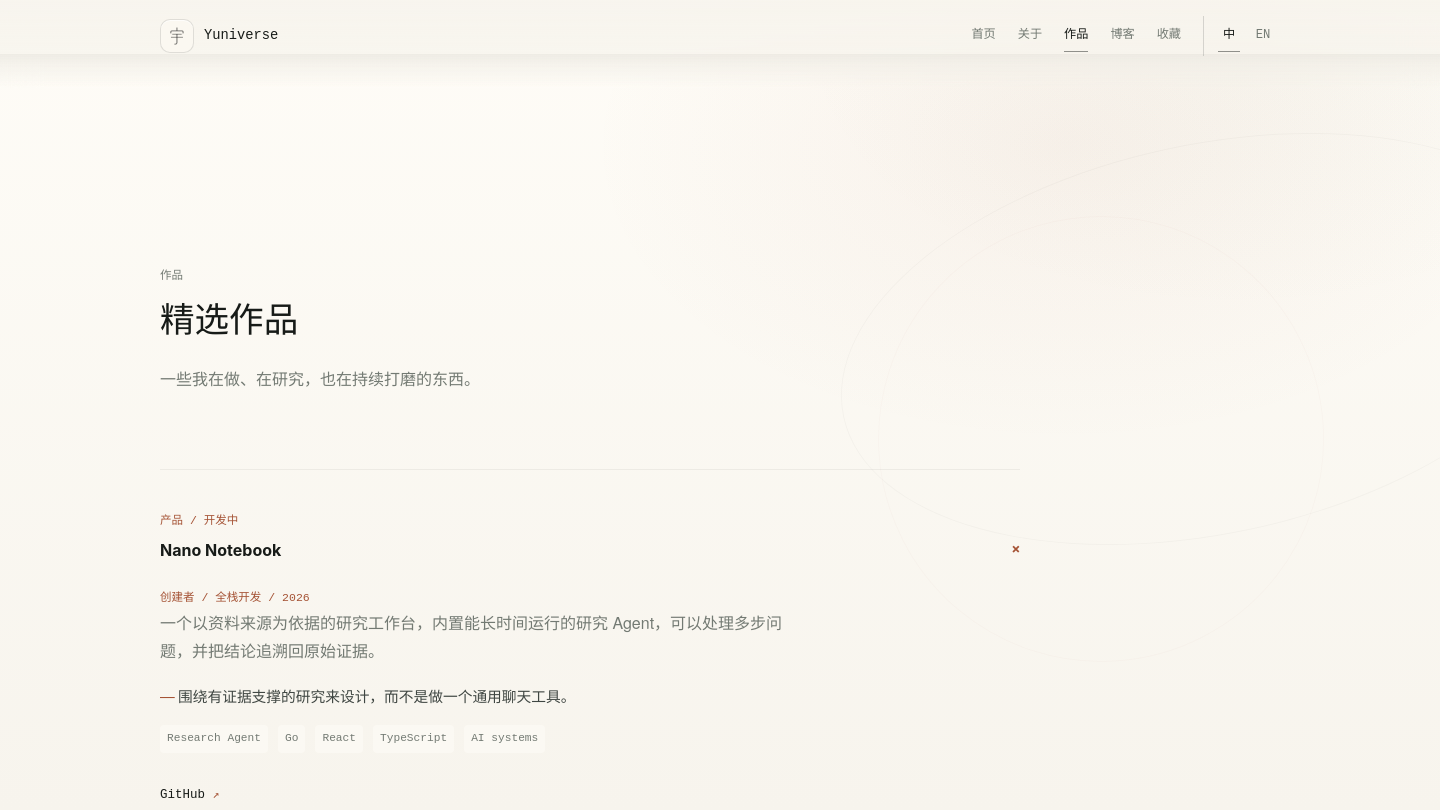
Test: bilingual site › switches every visible label when the toggle is pressed
This screenshot has width=1440, height=810.
Check: the navigation bar named "主导航" is shown, box x1=971 y1=28 x2=1181 y2=42
Check: the heading "精选作品" is shown, box x1=160 y1=292 x2=298 y2=342
Click the button with aria-label "English" at {"x": 1263, "y": 36}, box x1=1246 y1=16 x2=1280 y2=56
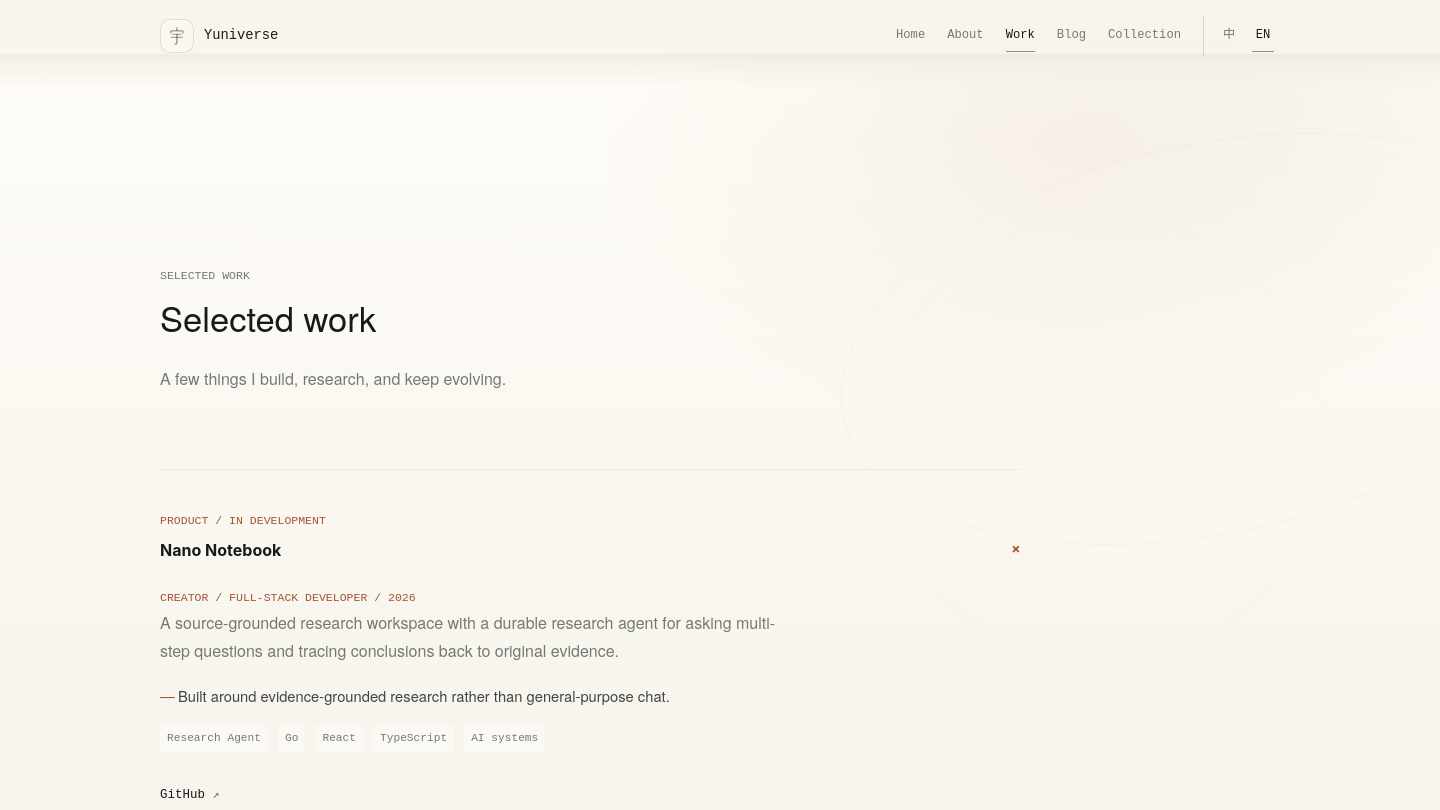
Check: the navigation bar named "Primary navigation" is shown, box x1=896 y1=28 x2=1181 y2=42
Check: the heading "Selected work" is shown, box x1=160 y1=292 x2=376 y2=342
